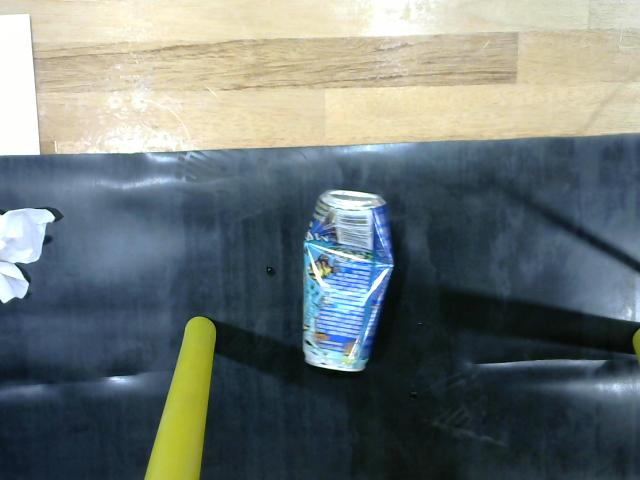can: (300, 190, 402, 381)
